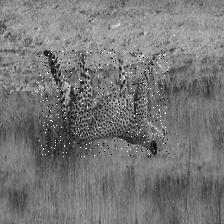Cheetha: (36, 48, 169, 156)
